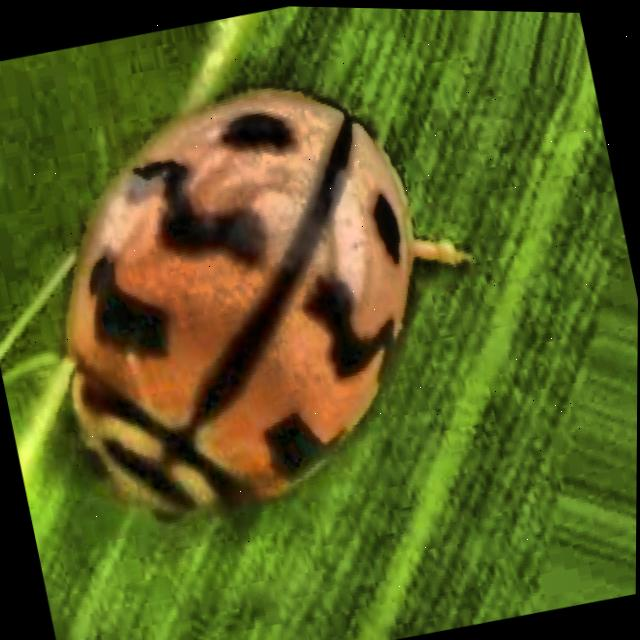Asian-Lady-beetle: (0, 0, 525, 640)
